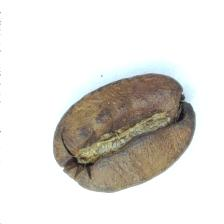NG: (68, 79, 184, 161)
